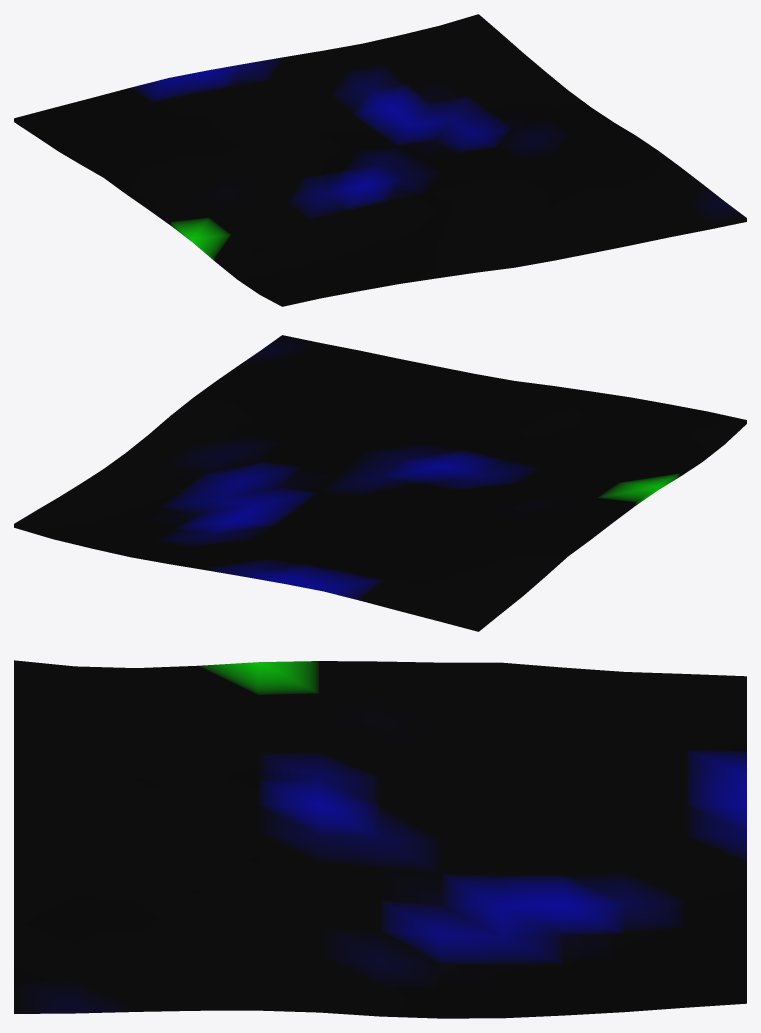
The model's file is coast_5_3.glb.
The picture shows the model from 3 angles, top to bottom: view 1: azimuth 30°, elevation 25°; view 2: azimuth 150°, elevation 25°; view 3: azimuth 270°, elevation 25°; orthographic projection. The views are drawn at different scales.
Parts seen in each view (by area): view 1: terrain; view 2: terrain; view 3: terrain.
Boxes of the visible parts, x1,y1,x2,y2 form: terrain: [14, 14, 746, 306]; terrain: [14, 335, 746, 631]; terrain: [14, 660, 746, 1018].
Size of the model in its own units: 192 by 14.02 by 192.
